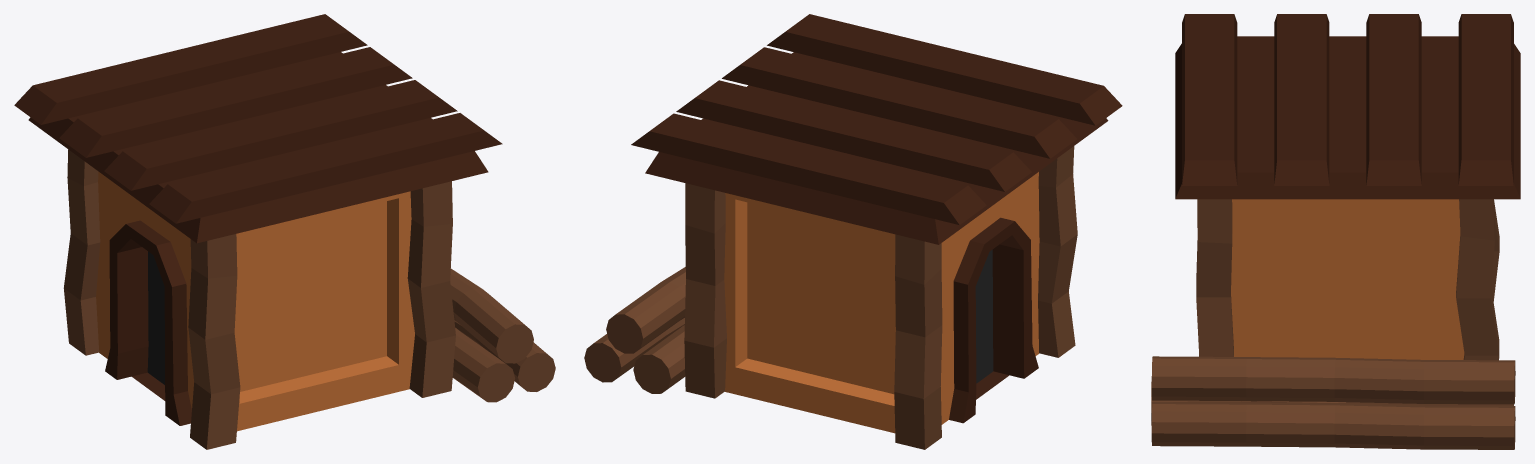
The model's file is GathererHut.fbx.
The picture shows the model from 3 angles, left to right: view 1: azimuth 30°, elevation 25°; view 2: azimuth 150°, elevation 25°; view 3: azimuth 270°, elevation 25°; orthographic projection. The views are drawn at different scales.
Parts seen in each view (by area): view 1: GathererHut; view 2: GathererHut; view 3: GathererHut.
Part boxes in pixels (left/top/right/bottom): GathererHut: left=14, top=14, right=555, bottom=449; GathererHut: left=584, top=14, right=1122, bottom=449; GathererHut: left=1151, top=14, right=1520, bottom=449.
Bounding box in the file's own units: 354 × 235 × 296.
